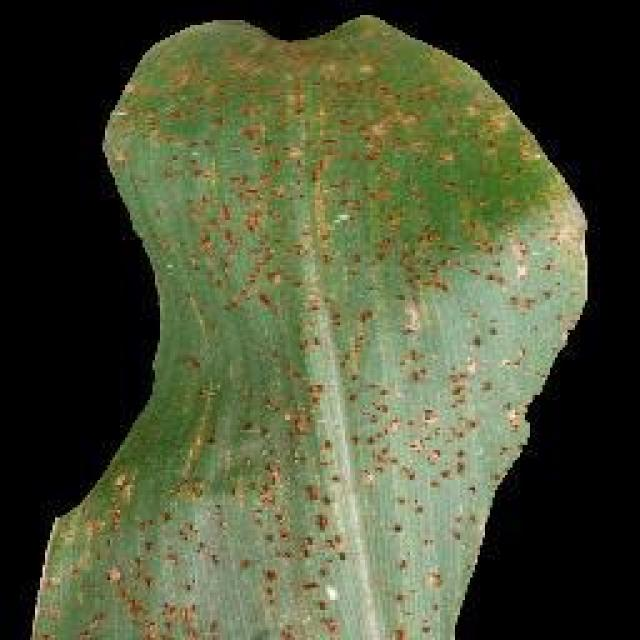Corn Common Rust: (143, 35, 460, 603)
